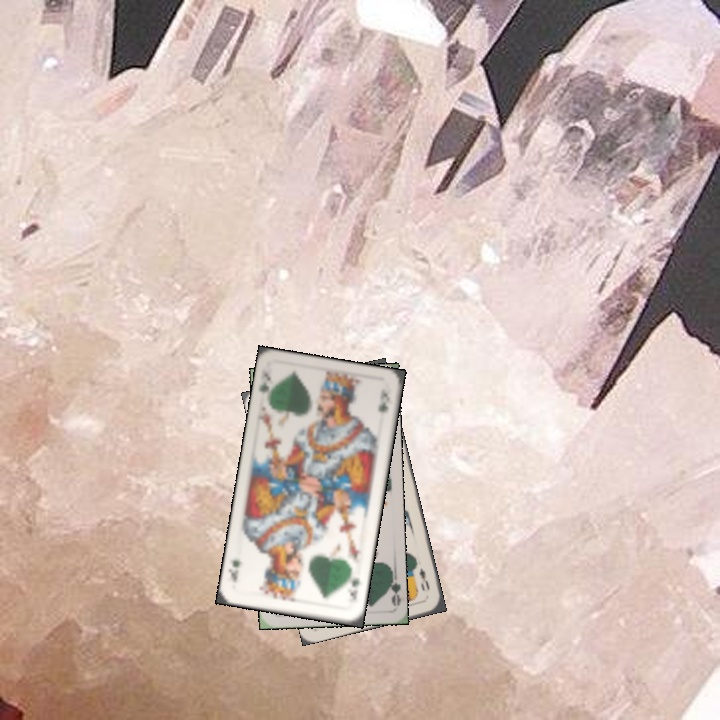EO: (415, 564, 432, 593)
GK: (344, 573, 363, 605), (255, 369, 273, 396)
GO: (382, 567, 403, 608)
